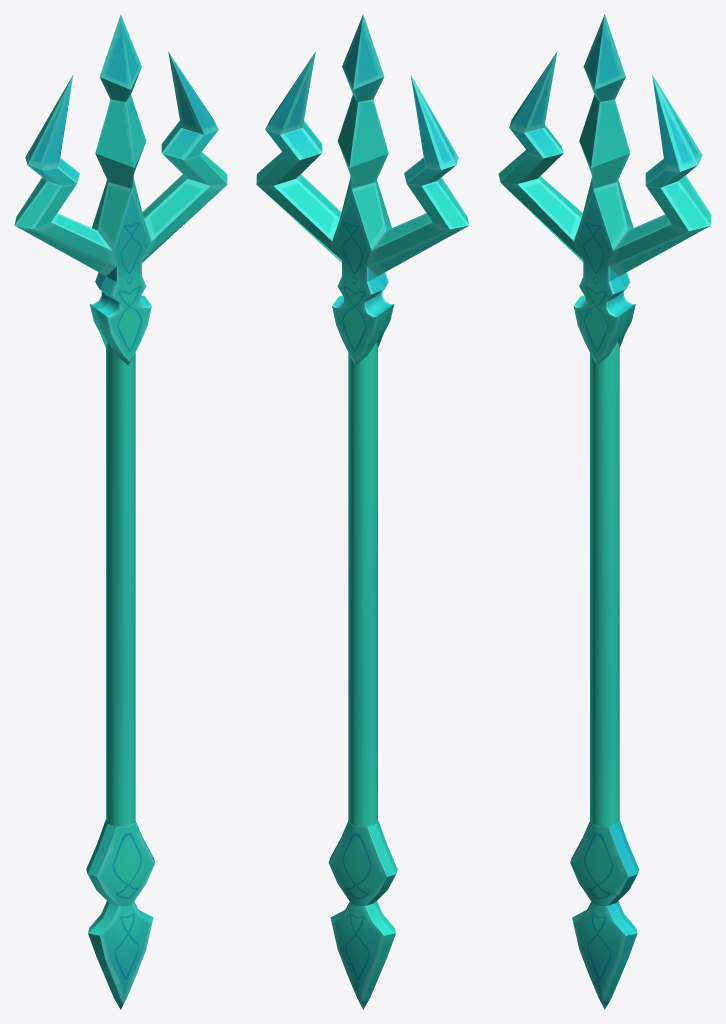
File: trident.fbx
3 views of the same model, side by side, from view 1: azimuth 30°, elevation 25°; view 2: azimuth 150°, elevation 25°; view 3: azimuth 330°, elevation 25° (orthographic).
Visible parts, largest first — view 1: Circle.002; view 2: Circle.002; view 3: Circle.002.
Boxes of the visible parts, x1,y1,x2,y2 form: Circle.002: [14, 14, 227, 1009]; Circle.002: [256, 14, 469, 1009]; Circle.002: [498, 14, 711, 1009].
Size of the model in its own units: 0.9742 by 0.22 by 4.36.
